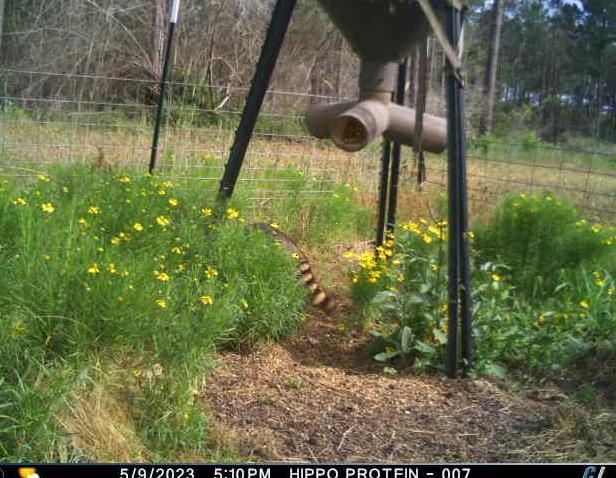Raccoon: (245, 215, 345, 313)
